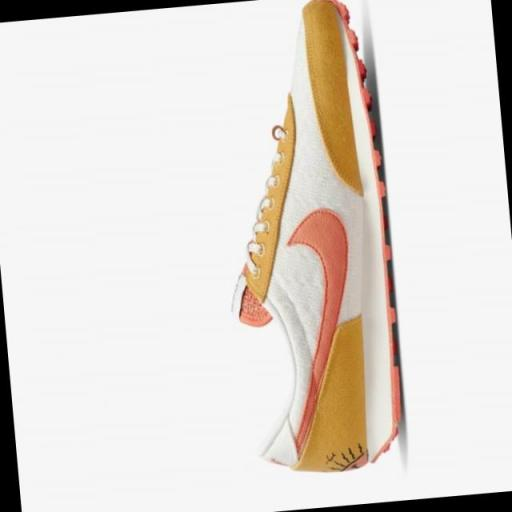Nike: (267, 193, 372, 456)
